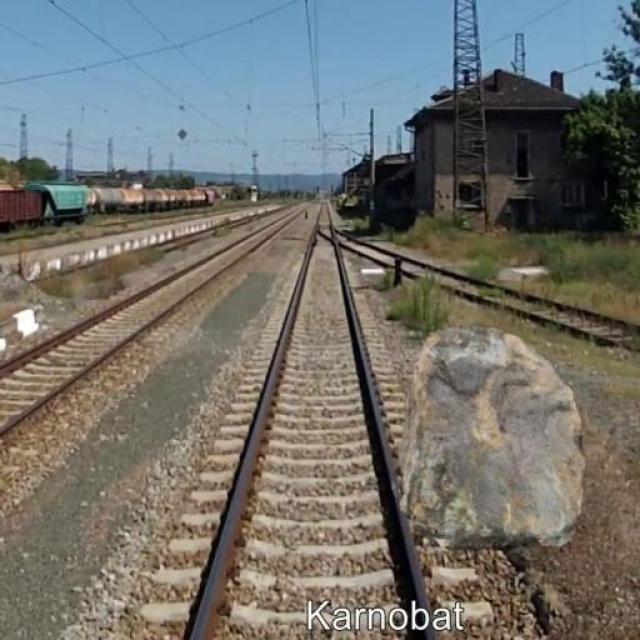Stone: (396, 315, 596, 558)
